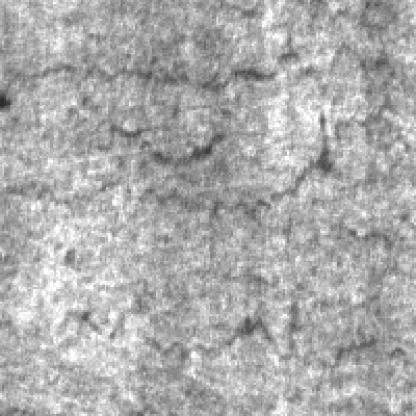crazing: (77, 35, 395, 229), (56, 250, 414, 372), (13, 2, 348, 94)
